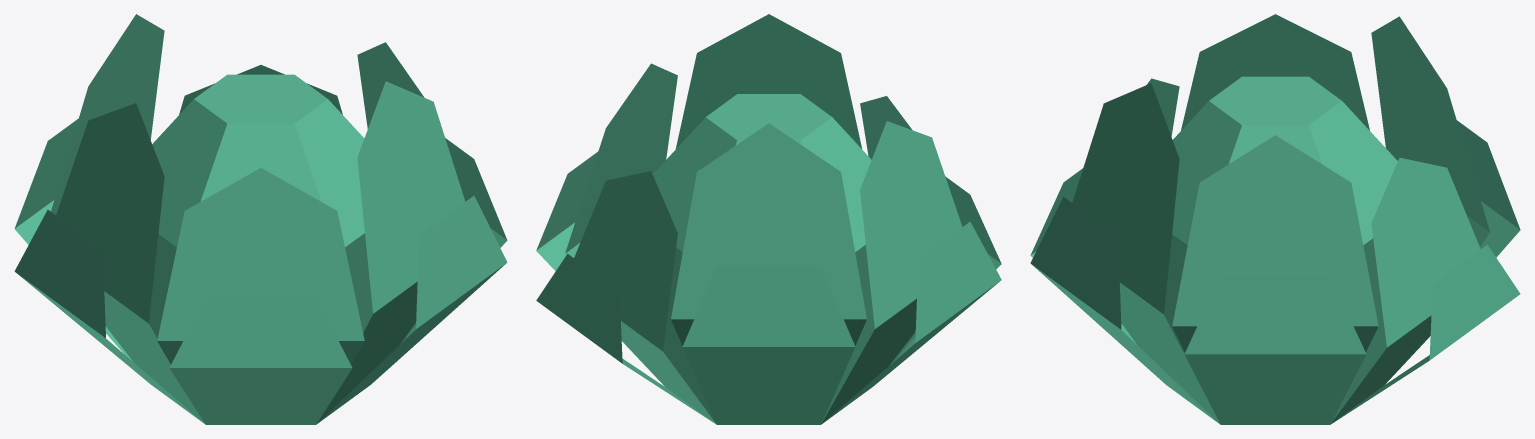
File: cabbage.obj
3 renders of one model, left to right at view 1: azimuth 30°, elevation 25°; view 2: azimuth 150°, elevation 25°; view 3: azimuth 270°, elevation 25°, orthographic. The views are drawn at different scales.
Parts seen in each view (by area): view 1: cabbage; view 2: cabbage; view 3: cabbage.
Part boxes in pixels (<box>): cabbage: <box>14,14,507,424</box>; cabbage: <box>536,14,1001,424</box>; cabbage: <box>1030,14,1520,424</box>.
Size of the model in its own units: 0.3794 by 0.3074 by 0.4036.
